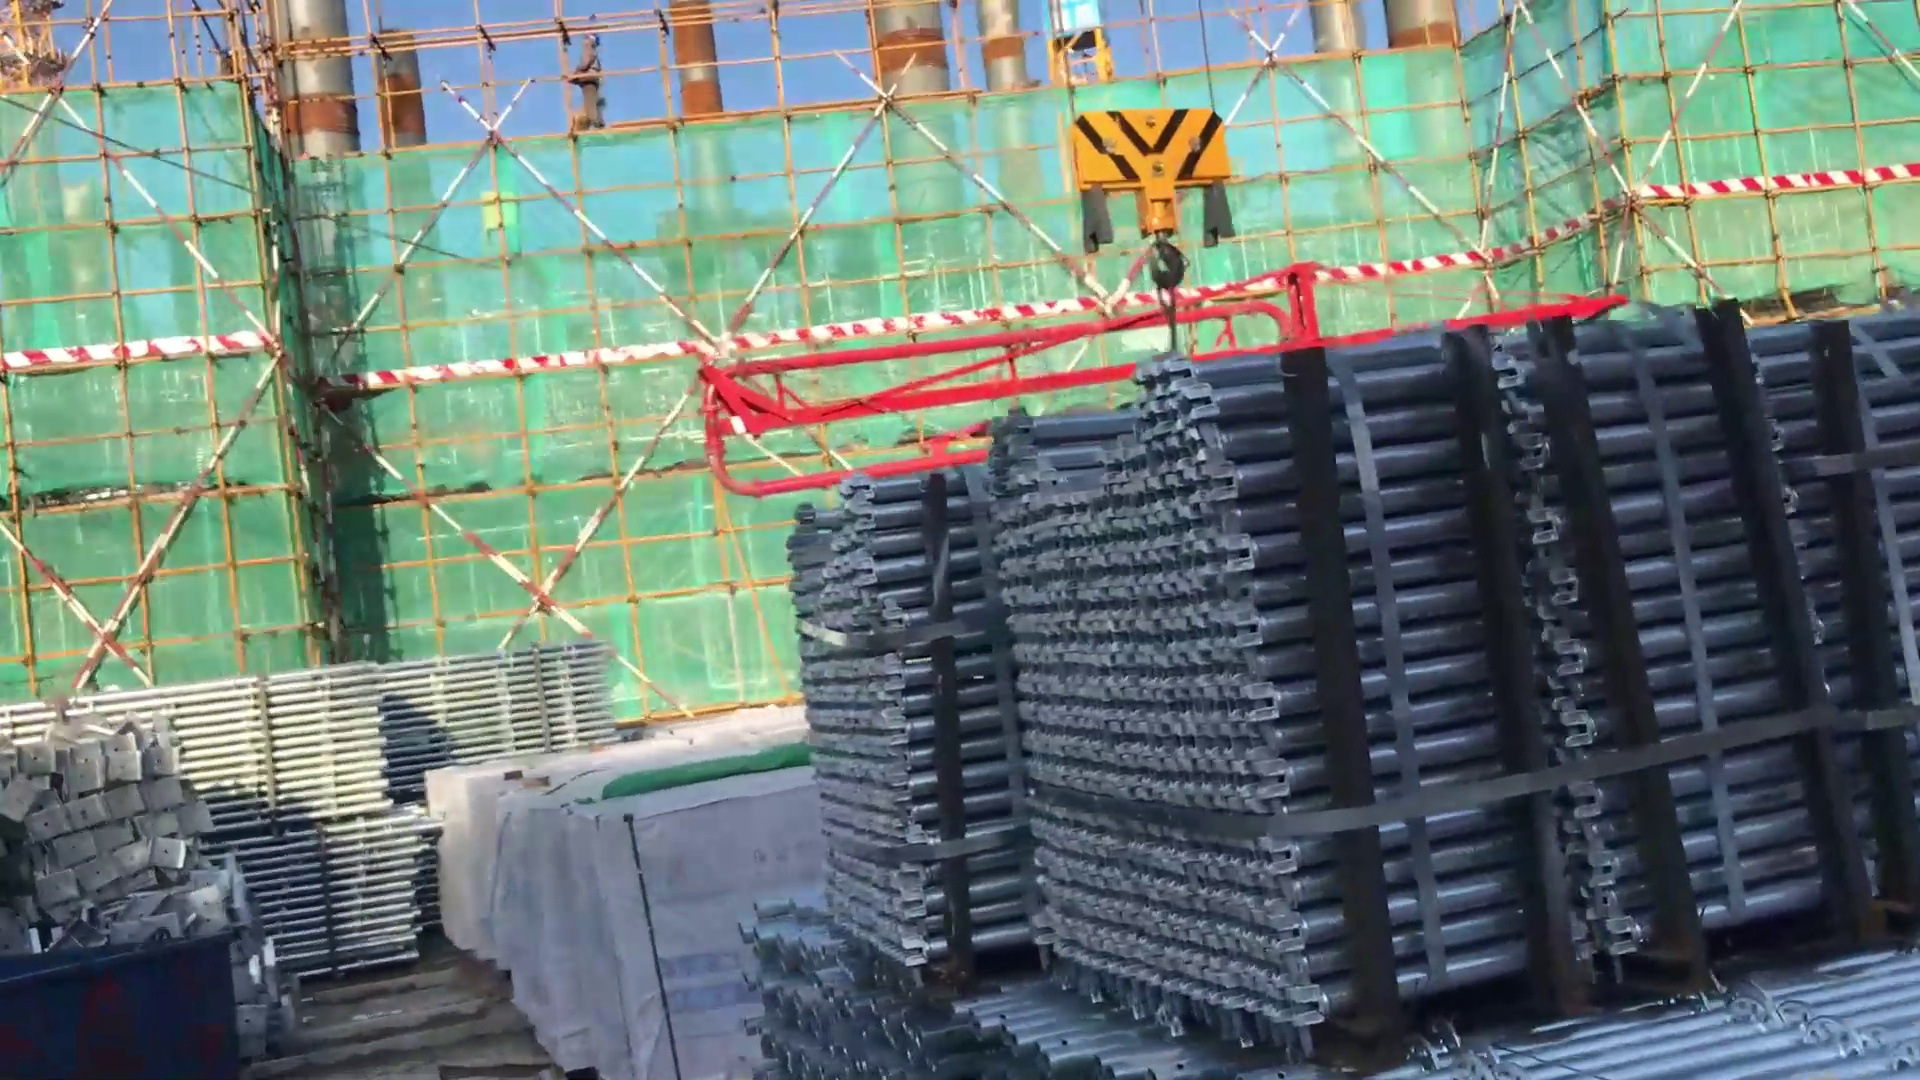hook: (1062, 87, 1244, 327)
hopper: (1, 899, 268, 1078)
person: (573, 16, 615, 137)
scaffold: (993, 316, 1920, 1059), (740, 439, 993, 995), (708, 874, 990, 1080), (13, 685, 397, 832), (220, 796, 468, 999), (369, 616, 630, 767)
